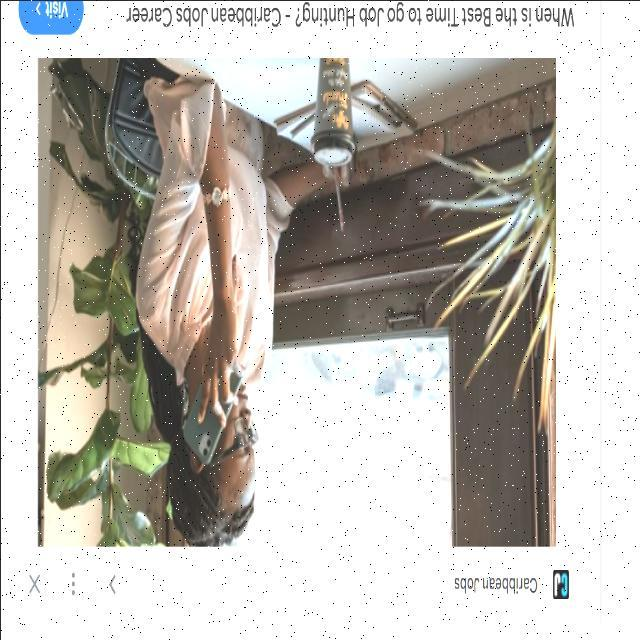face_no_mask: (211, 378, 261, 502)
